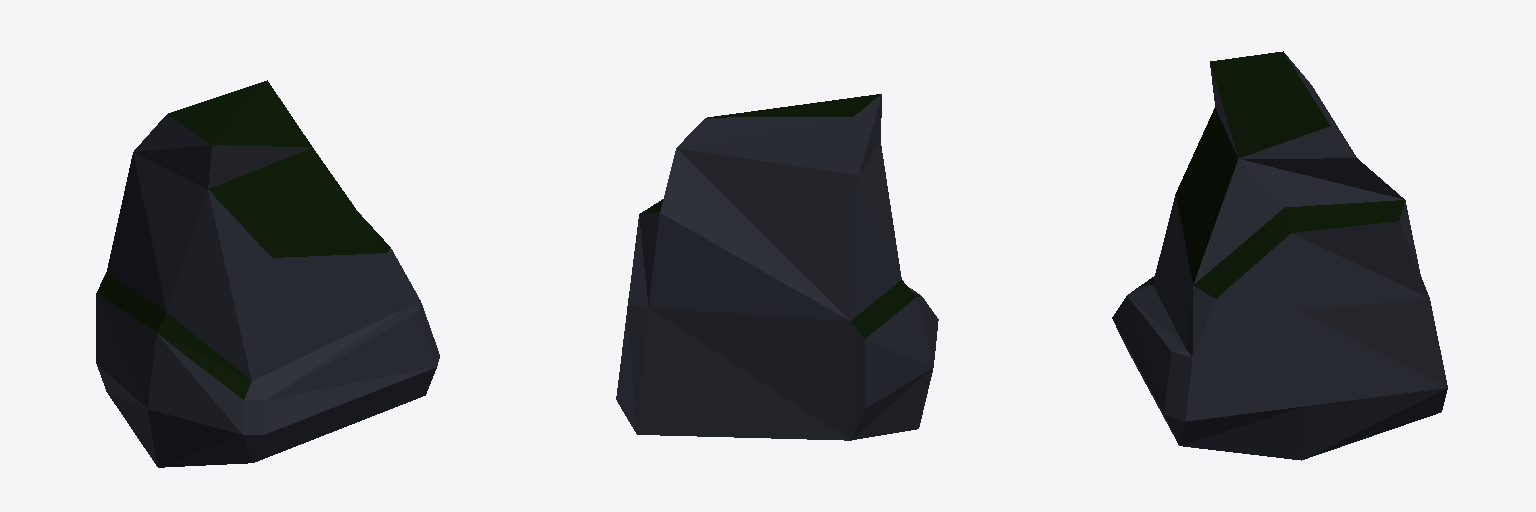
The model's file is Rock_Moss_2.obj.
3 views of the same model, side by side, from view 1: azimuth 30°, elevation 25°; view 2: azimuth 150°, elevation 25°; view 3: azimuth 270°, elevation 25° (orthographic).
Parts seen in each view (by area): view 1: Rock_Moss_2_Cube.021; view 2: Rock_Moss_2_Cube.021; view 3: Rock_Moss_2_Cube.021.
Part boxes in pixels (bbox=[...]): Rock_Moss_2_Cube.021: bbox=[96, 80, 439, 467]; Rock_Moss_2_Cube.021: bbox=[616, 94, 938, 440]; Rock_Moss_2_Cube.021: bbox=[1112, 51, 1447, 460].
Size of the model in its own units: 0.6125 by 0.6918 by 0.6504.